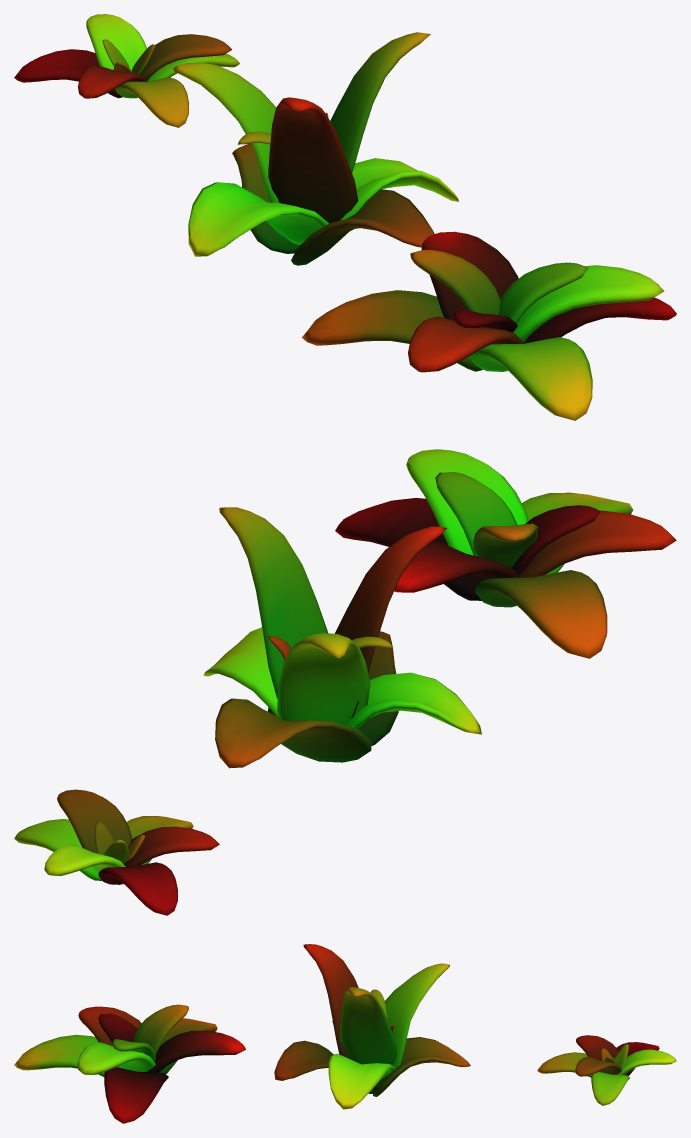
The model's file is KM_Aloe01.fbx.
3 renders of one model, top to bottom at view 1: azimuth 30°, elevation 25°; view 2: azimuth 150°, elevation 25°; view 3: azimuth 270°, elevation 25°, orthographic. The views are drawn at different scales.
Parts seen in each view (by area): view 1: Aloe01, Aloe02, Aloe03; view 2: Aloe02, Aloe01, Aloe03; view 3: Aloe02, Aloe01, Aloe03.
Part boxes in pixels (x1,y1,x2,y2): Aloe01: (302, 231, 676, 420); Aloe02: (171, 32, 458, 265); Aloe03: (14, 14, 239, 127); Aloe02: (203, 507, 481, 768); Aloe01: (335, 449, 676, 658); Aloe03: (14, 789, 219, 915); Aloe02: (274, 944, 470, 1109); Aloe01: (14, 1004, 245, 1123); Aloe03: (537, 1035, 676, 1105).
Size of the model in its own units: 3.14 by 1.98 by 9.03.
